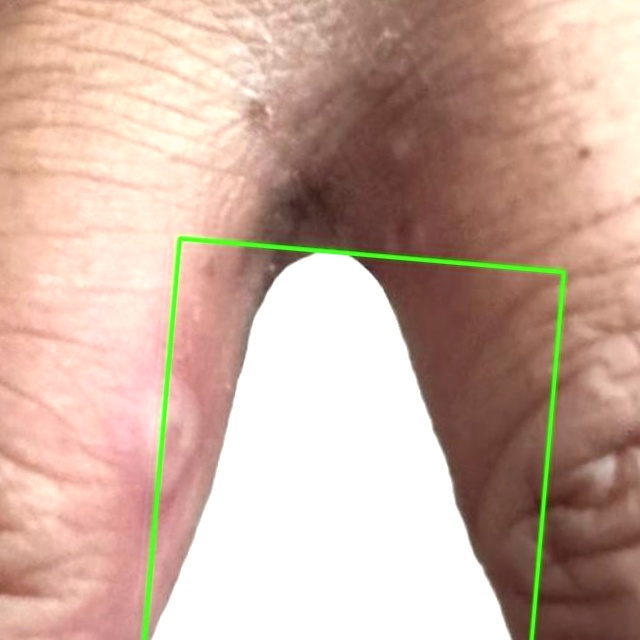Scabies: (144, 238, 564, 639)
